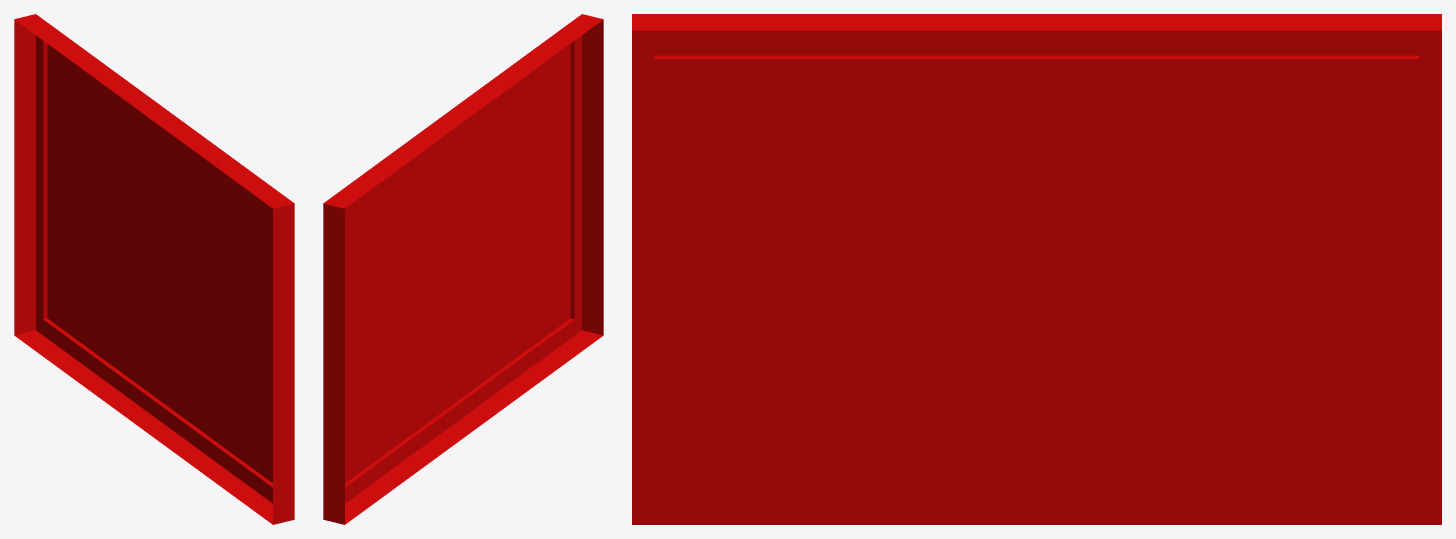
The model's file is Wall.fbx.
3 renders of one model, left to right at view 1: azimuth 30°, elevation 25°; view 2: azimuth 150°, elevation 25°; view 3: azimuth 270°, elevation 25°, orthographic. The views are drawn at different scales.
Visible parts, largest first — view 1: Wall; view 2: Wall; view 3: Wall.
Boxes of the visible parts, bbox=[...] form: Wall: bbox=[14, 14, 294, 524]; Wall: bbox=[323, 14, 603, 524]; Wall: bbox=[632, 14, 1441, 524].
Size of the model in its own units: 23.38 by 272 by 403.
